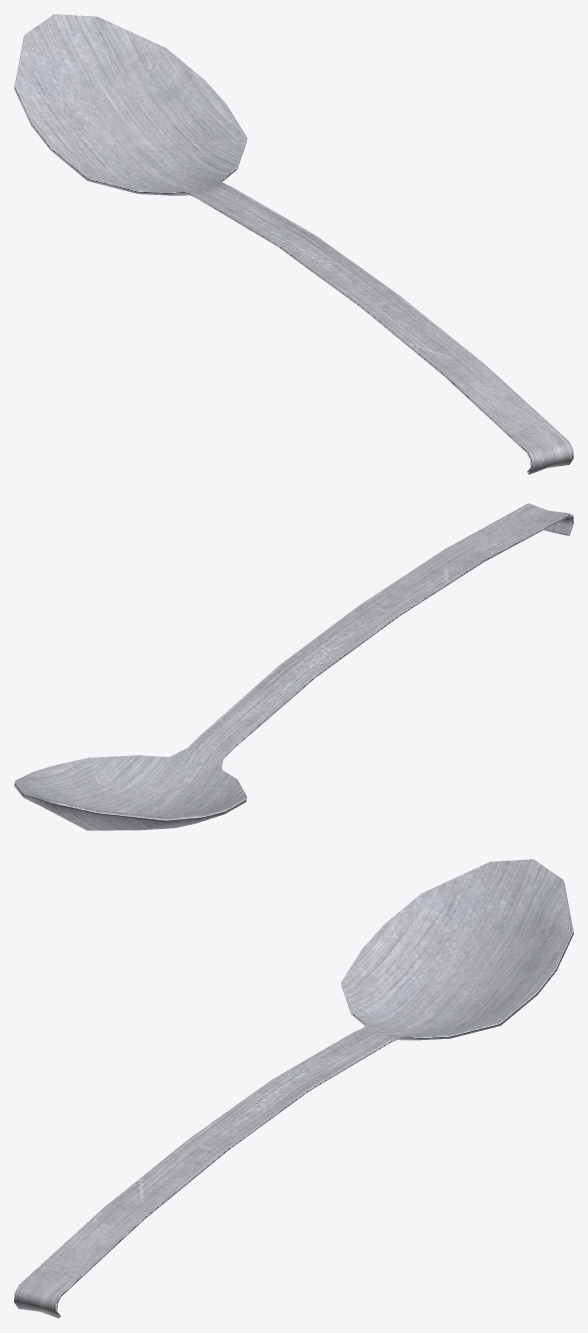
Rendered from SM_KitchenwareC.FBX.
3 renders of one model, top to bottom at view 1: azimuth 30°, elevation 25°; view 2: azimuth 150°, elevation 25°; view 3: azimuth 330°, elevation 25°, orthographic.
Parts seen in each view (by area): view 1: SM_KitchenwareC; view 2: SM_KitchenwareC; view 3: SM_KitchenwareC.
Part boxes in pixels (x1,y1,x2,y2): SM_KitchenwareC: (14, 14, 573, 474); SM_KitchenwareC: (14, 503, 573, 830); SM_KitchenwareC: (14, 859, 573, 1318).
Bounding box in the file's own units: 6.41 × 3.26 × 31.87.
